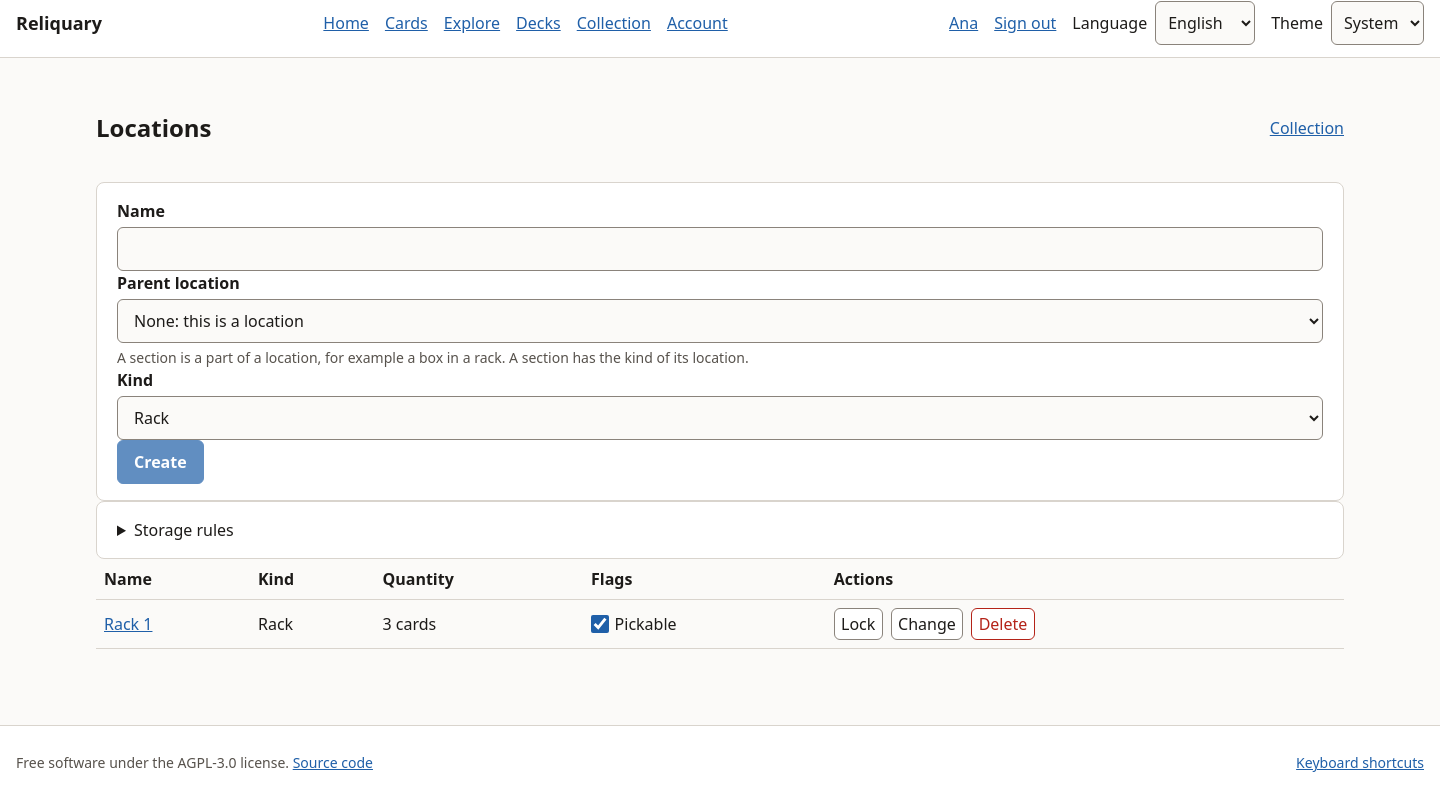
collection › adds a storage rule
Click the heading "Storage rules": {"x": 184, "y": 530} top-left (134, 519), bottom-right (234, 541)
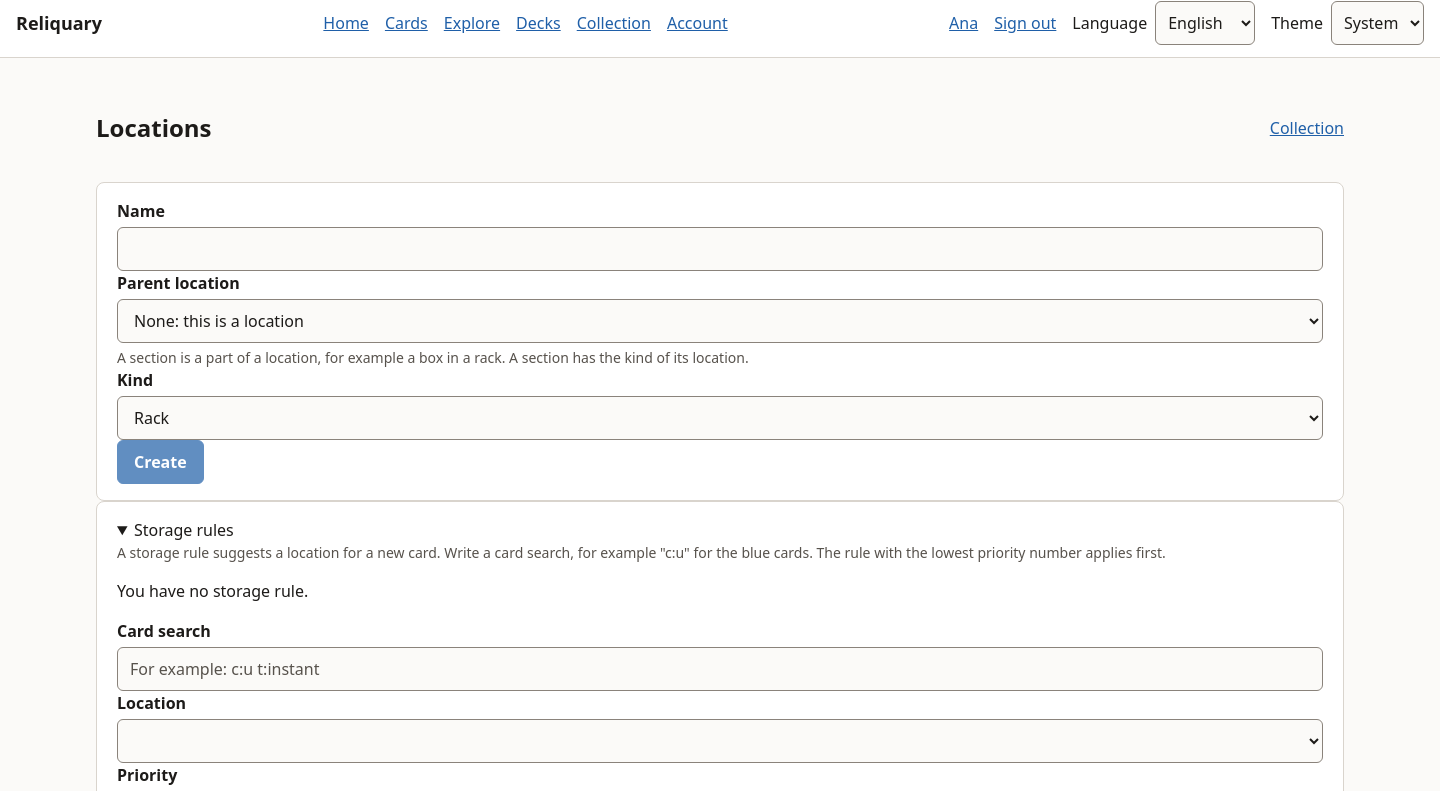
In the field labelled "Card search": {"x": 720, "y": 669} top-left (117, 647), bottom-right (1323, 691), type "t:("
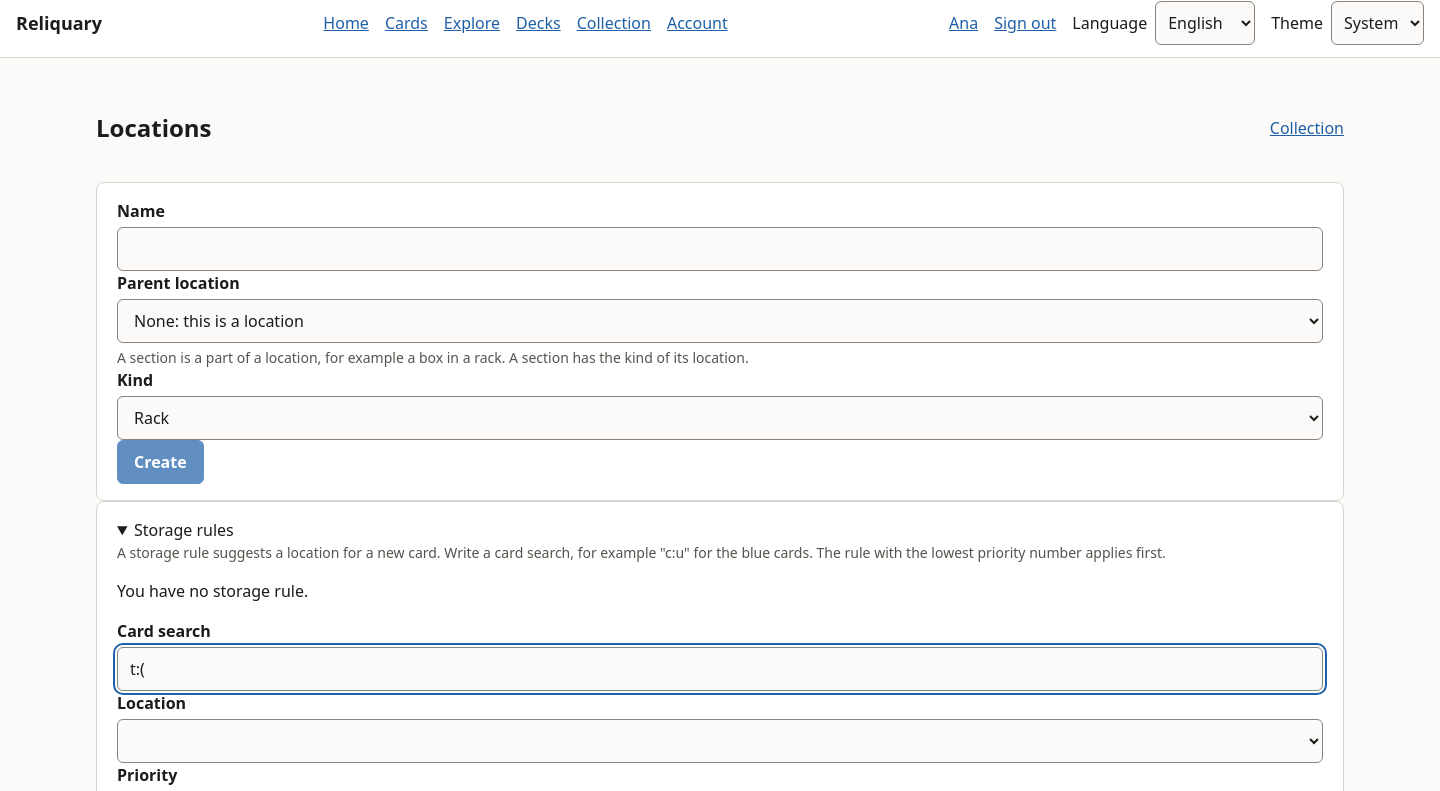
Select "Rack 1" in the dropdown labelled "Location": {"x": 720, "y": 741} top-left (117, 719), bottom-right (1323, 763)
(page scrolled)
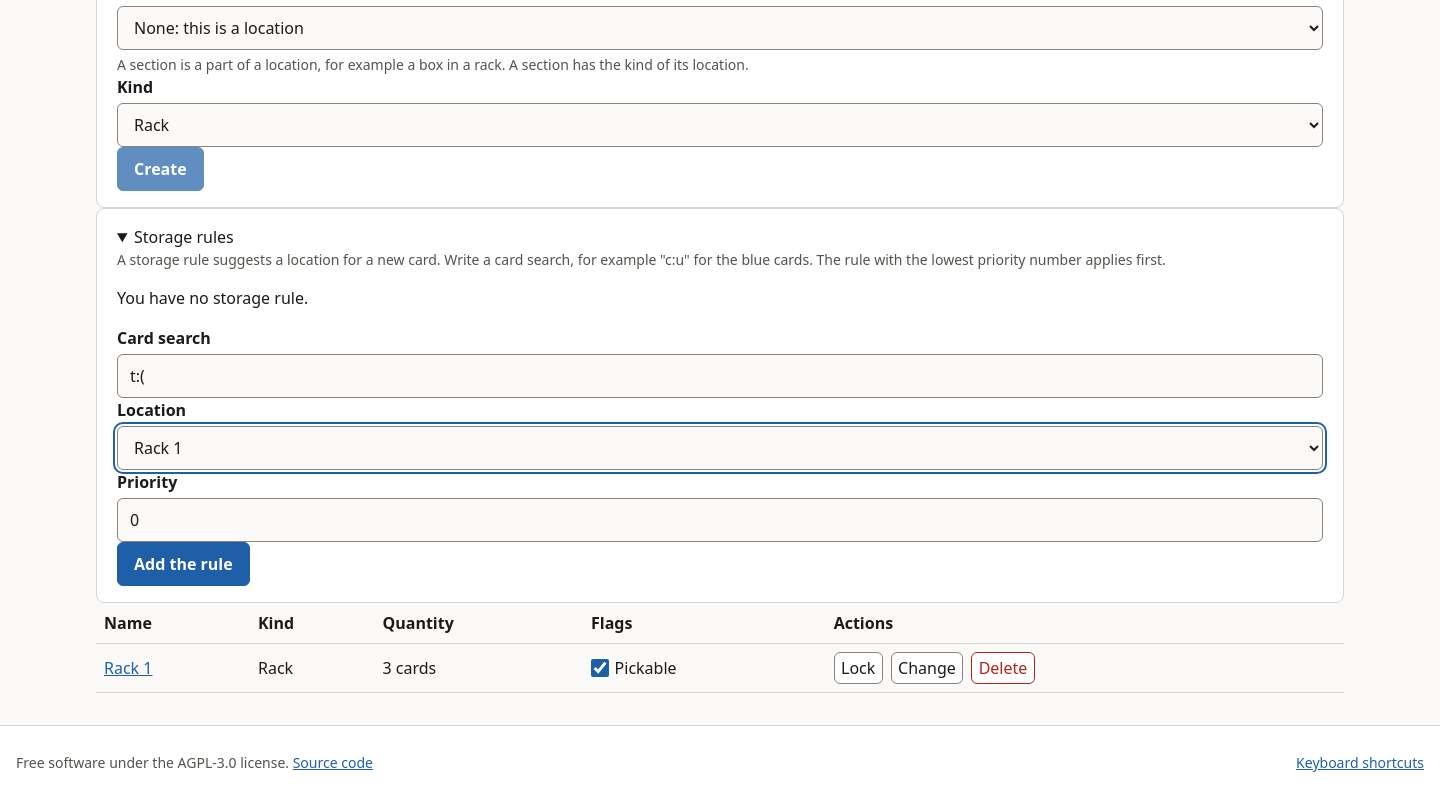
Click the button "Add the rule": {"x": 183, "y": 564} top-left (117, 542), bottom-right (250, 586)
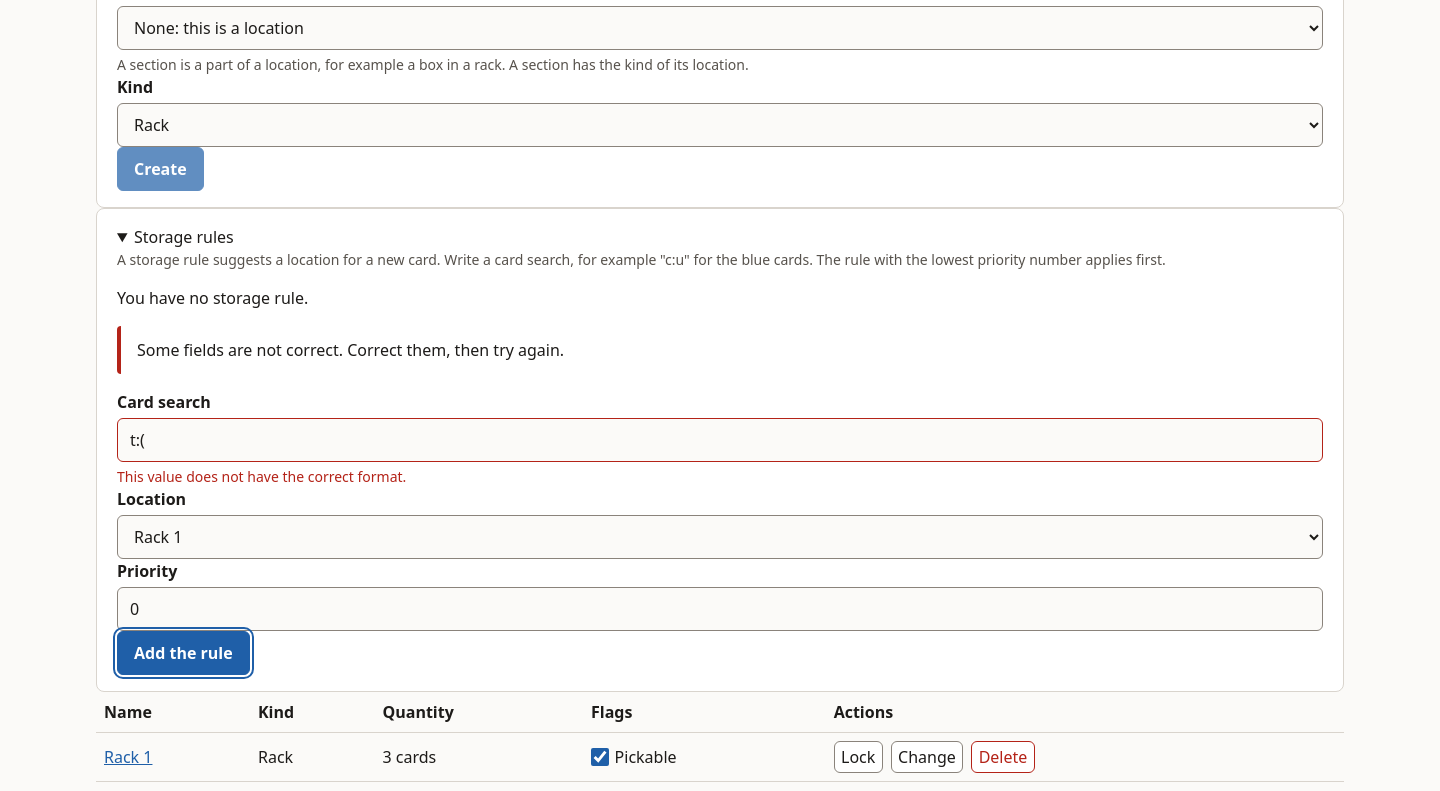
Now the text "This value does not have the correct format." is shown, box top-left (117, 467), bottom-right (406, 486)
